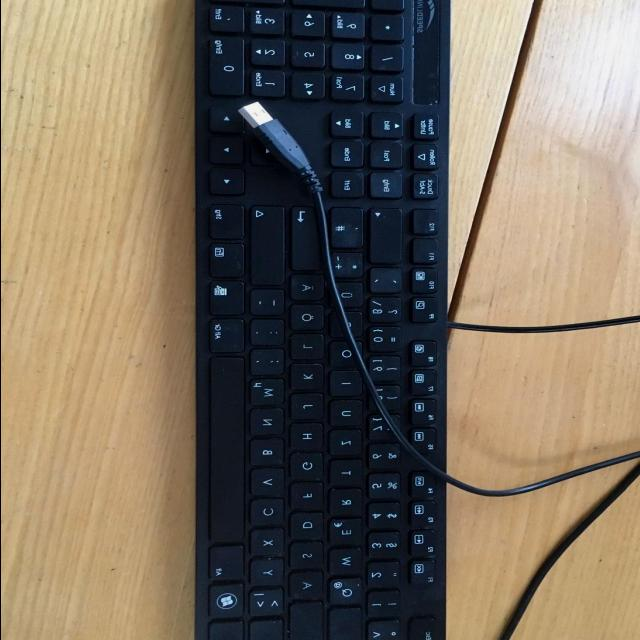0: (367, 327, 403, 354)
1: (369, 592, 404, 620)
2: (369, 563, 403, 590)
3: (369, 533, 404, 561)
4: (369, 504, 404, 531)
5: (369, 474, 404, 501)
6: (369, 445, 404, 472)
7: (370, 416, 400, 443)
8: (369, 386, 402, 413)
9: (368, 356, 402, 383)
a: (291, 574, 327, 602)
accent: (370, 268, 404, 294)
ae: (292, 276, 328, 303)
alt-left: (210, 547, 247, 583)
altgr-right: (209, 320, 247, 356)
b: (252, 440, 288, 468)
c: (252, 500, 288, 528)
caret: (369, 622, 402, 640)
comma: (252, 351, 288, 378)
d: (291, 514, 327, 542)
del: (368, 210, 403, 265)
e: (330, 521, 366, 548)
enter: (292, 208, 326, 274)
f: (291, 484, 327, 512)
g: (291, 455, 327, 483)
h: (291, 425, 327, 453)
hash: (331, 209, 366, 251)
i: (332, 373, 366, 399)
j: (291, 395, 327, 422)
k: (291, 365, 327, 392)
keyboard: (189, 0, 457, 640)
l: (291, 336, 327, 363)
less: (251, 591, 287, 619)
m: (251, 381, 288, 408)
minus: (252, 291, 287, 318)
n: (252, 410, 288, 438)
o: (331, 342, 359, 370)
oe: (291, 306, 327, 333)
p: (330, 311, 362, 339)
plus: (328, 253, 364, 280)
point: (252, 321, 288, 348)
q: (330, 579, 367, 608)
r: (330, 490, 366, 518)
s: (291, 544, 327, 572)
shift-left: (250, 622, 287, 640)
shift-lock: (291, 604, 327, 640)
shift-right: (248, 207, 284, 287)
space: (209, 356, 247, 544)
ss: (368, 296, 403, 322)
strg-left: (208, 623, 246, 640)
strg-right: (209, 205, 247, 243)
t: (331, 461, 366, 488)
tab: (329, 610, 365, 640)
u: (330, 402, 366, 429)
ue: (331, 282, 365, 309)
v: (252, 470, 288, 498)
w: (330, 550, 367, 578)
x: (252, 531, 287, 558)
y: (252, 561, 288, 589)
z: (330, 431, 365, 458)
